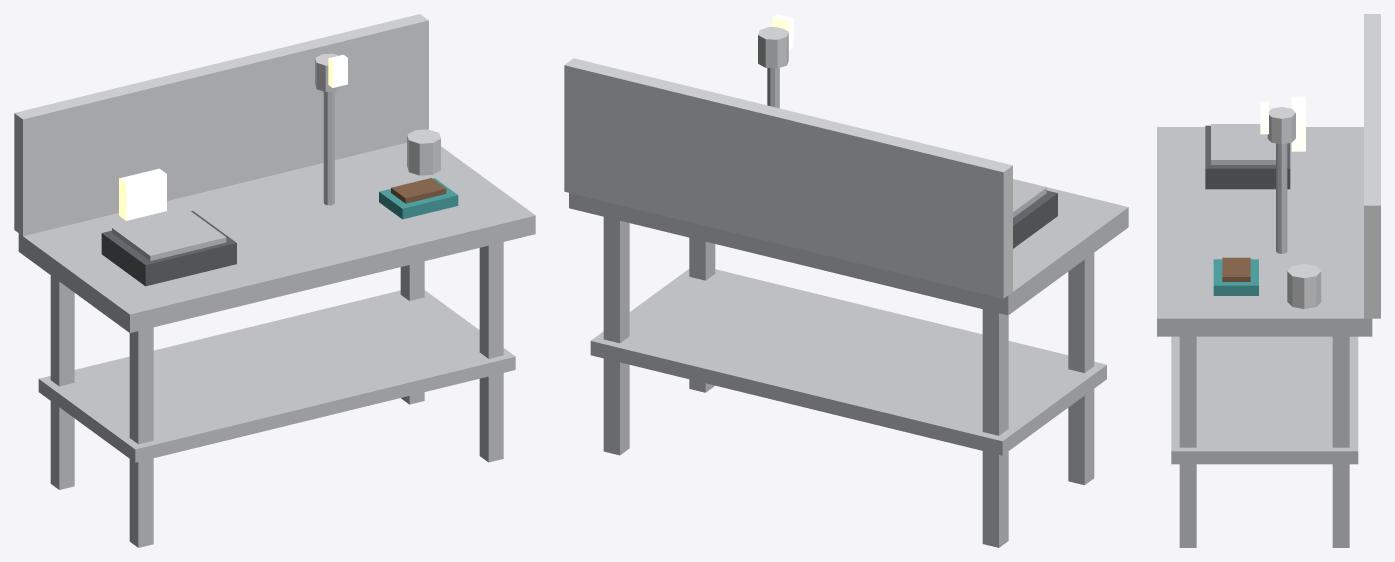
Rendered from chocolate-and-confectionery-factory-qc-bench-e19ff11c__36801.glb.
3 views of the same model, side by side, from view 1: azimuth 30°, elevation 25°; view 2: azimuth 150°, elevation 25°; view 3: azimuth 270°, elevation 25° (orthographic). The views are drawn at different scales.
Visible parts, largest first — view 1: qc-bench; view 2: qc-bench; view 3: qc-bench.
Part boxes in pixels (bbox=[...]): qc-bench: bbox=[14, 14, 535, 547]; qc-bench: bbox=[564, 14, 1128, 547]; qc-bench: bbox=[1157, 14, 1380, 547].
Size of the model in its own units: 1.6 by 1.5 by 0.79.
